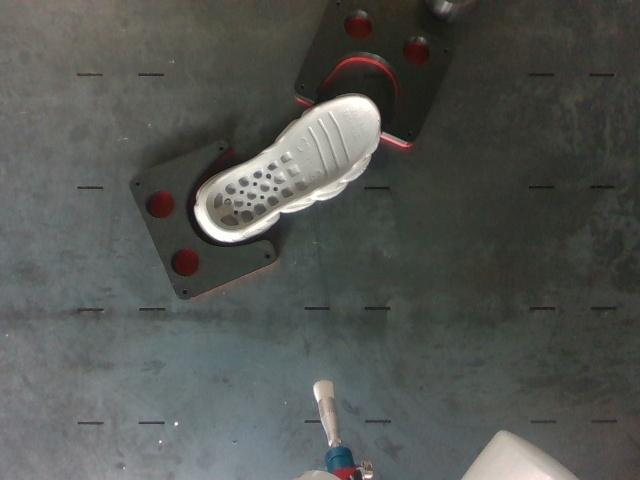shoes: (206, 97, 379, 231)
